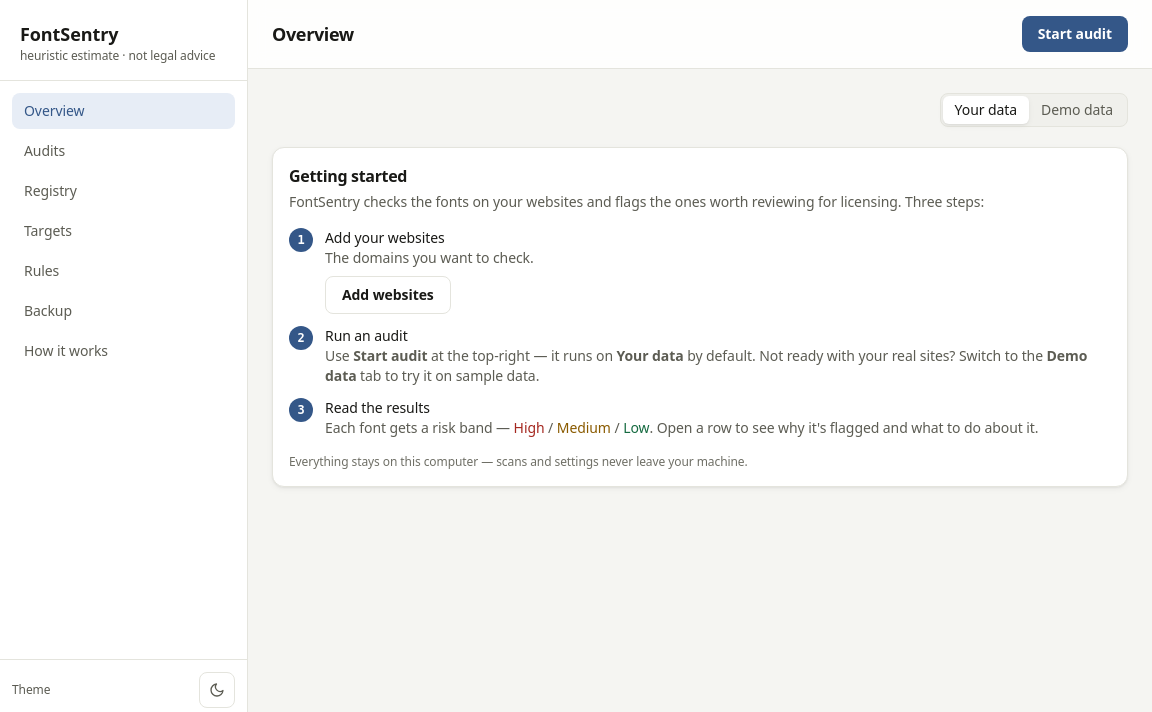
Scenario: App › shows a failed audit's error until dismissed
Click the button "Start audit" at (1075, 34), box x1=1022 y1=16 x2=1128 y2=52
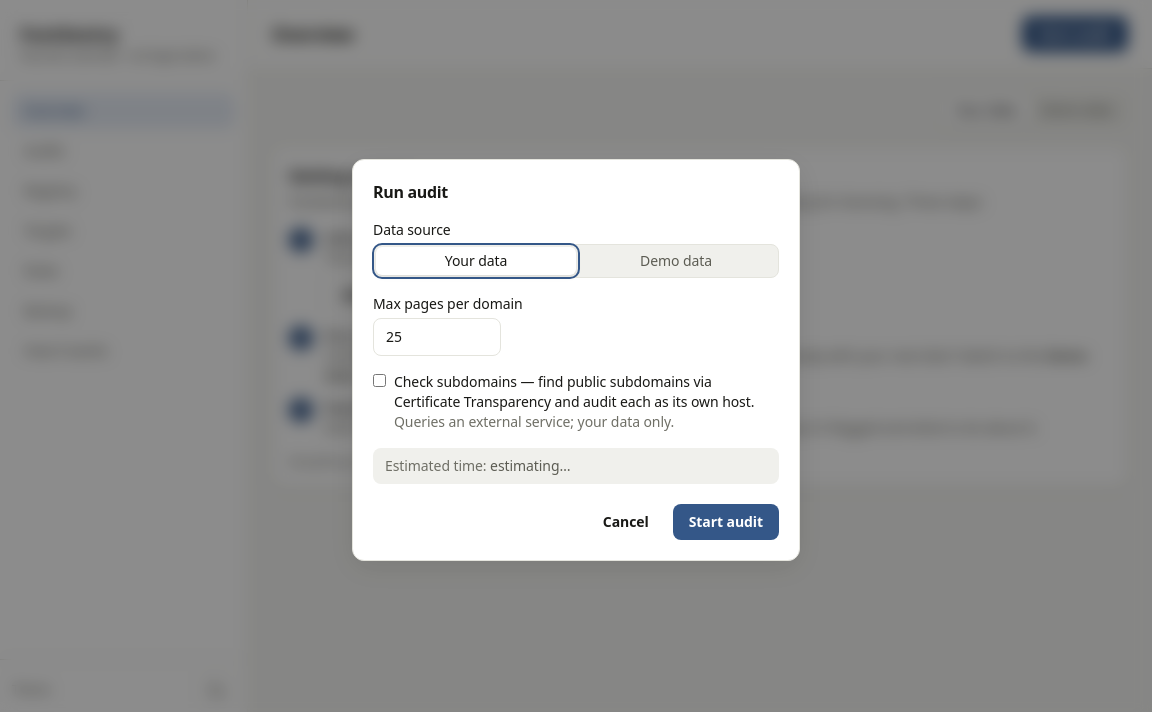
Click the button "Start audit" at (726, 522), box x1=673 y1=504 x2=779 y2=540
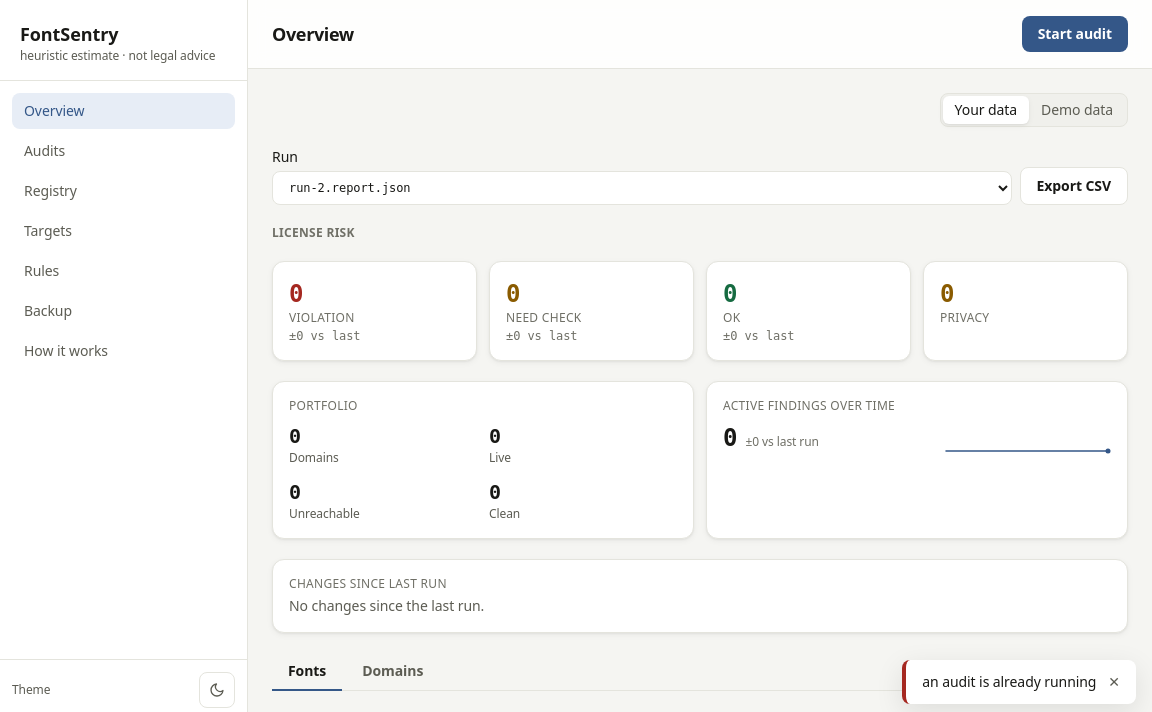
Result: the message shows "an audit is already running" at x1=922 y1=672 x2=1096 y2=691
